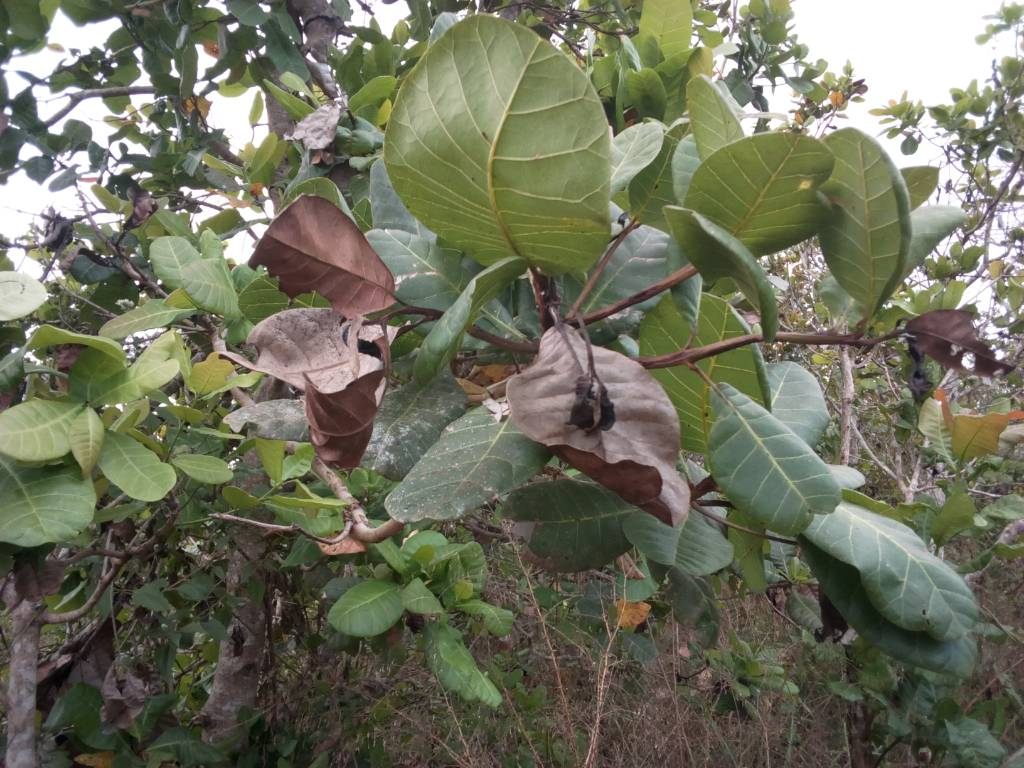Dessèchement des bourgeons: (506, 320, 689, 528), (907, 308, 1010, 398)
